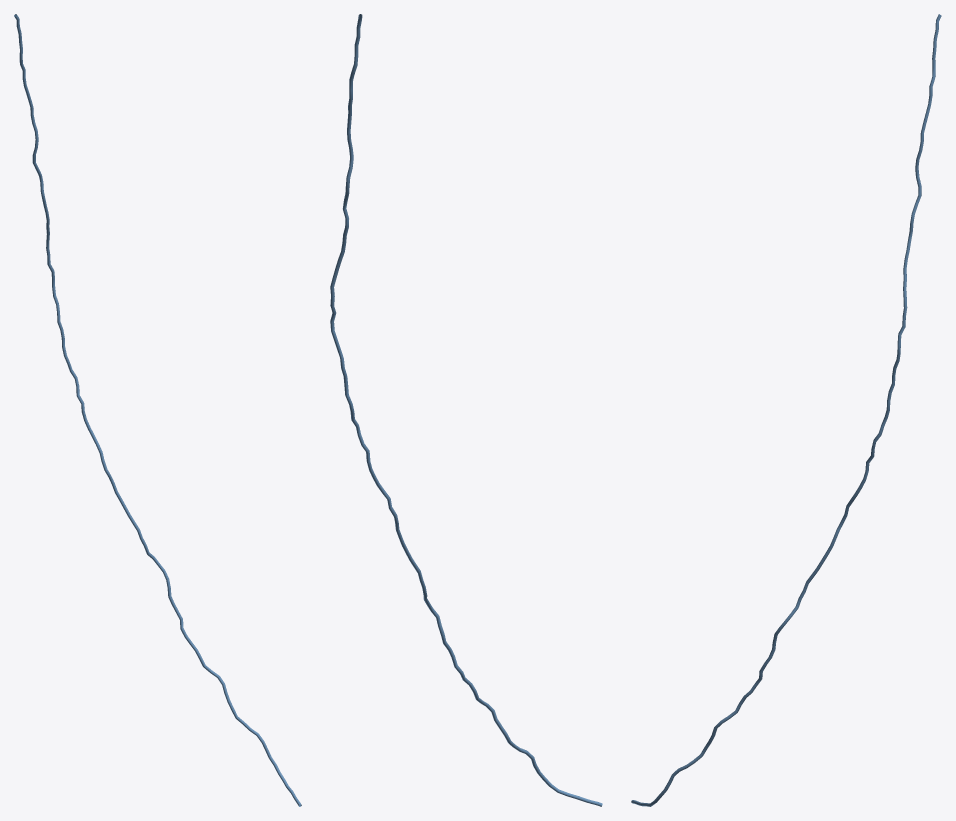
File: sweep323.fbx
3 views of the same model, side by side, from view 1: azimuth 90°, elevation 25°; view 2: azimuth 150°, elevation 25°; view 3: azimuth 270°, elevation 25° (orthographic). The views are drawn at different scales.
Visible parts, largest first — view 1: sweep323; view 2: sweep323; view 3: sweep323.
Part boxes in pixels (x1,y1,x2,y2): sweep323: (14,14,301,806); sweep323: (330,14,602,806); sweep323: (631,14,941,806).
Size of the model in its own units: 0.7573 by 5.11 by 1.75.
